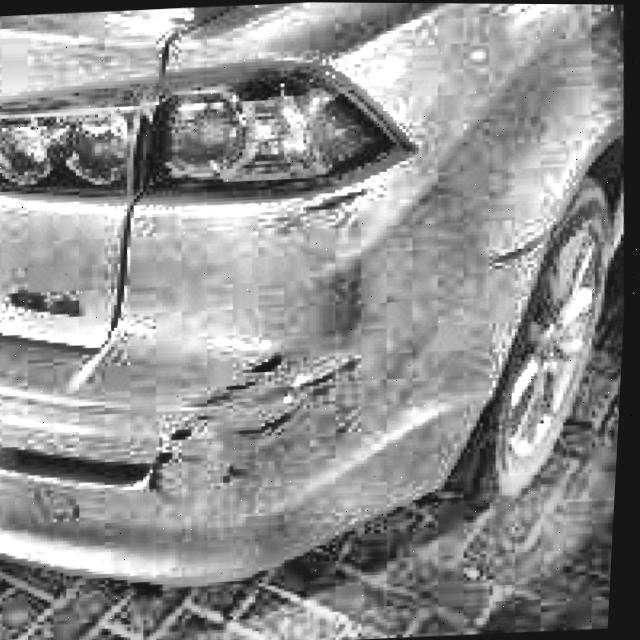tail_lamp: (142, 81, 369, 200), (0, 99, 132, 202)
